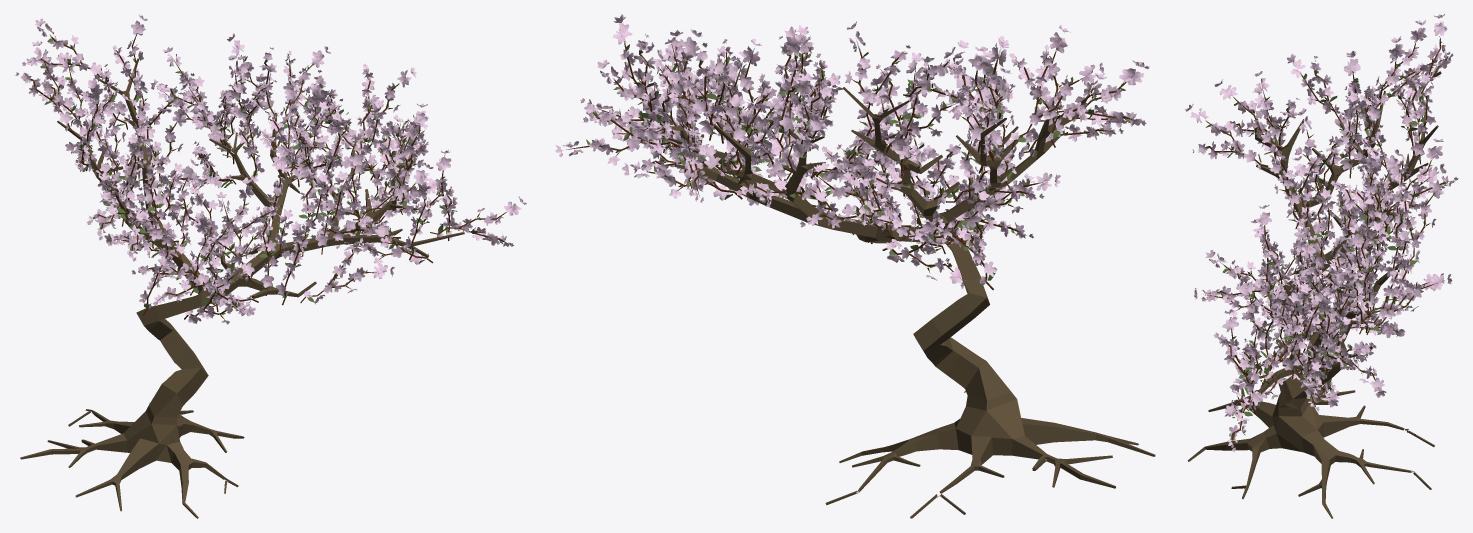
The model's file is sakura1.glb.
3 renders of one model, left to right at view 1: azimuth 30°, elevation 25°; view 2: azimuth 150°, elevation 25°; view 3: azimuth 270°, elevation 25°, orthographic. The views are drawn at different scales.
Visible parts, largest first — view 1: Cube.008_0; view 2: Cube.008_0; view 3: Cube.008_0.
Boxes of the visible parts, bbox=[...] form: Cube.008_0: bbox=[15, 14, 526, 518]; Cube.008_0: bbox=[555, 14, 1155, 518]; Cube.008_0: bbox=[1184, 14, 1458, 518].
Size of the model in its own units: 7.25 by 6.4 by 3.66.
4 materials, 1 textured.
